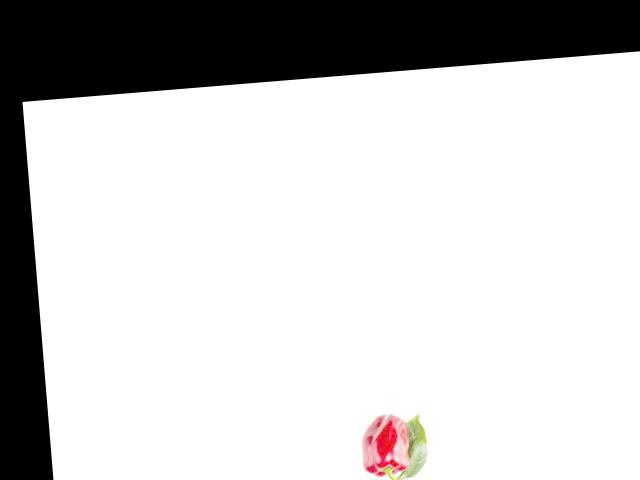bell_pepper: (353, 410, 415, 480)
